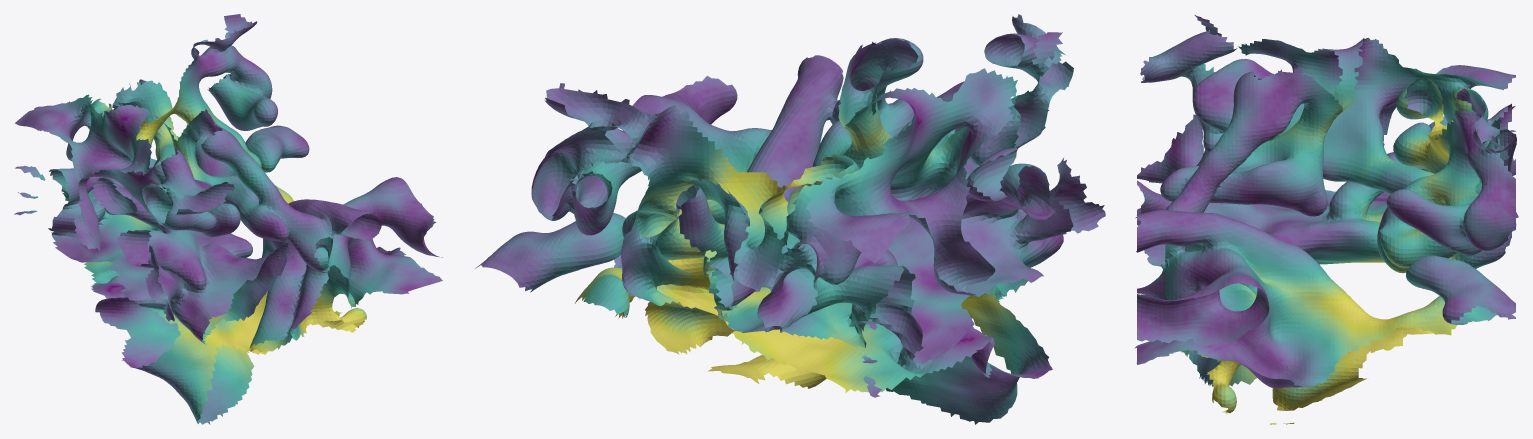
File: crop1038_gap.glb
The picture shows the model from 3 angles, left to right: view 1: azimuth 30°, elevation 25°; view 2: azimuth 150°, elevation 25°; view 3: azimuth 270°, elevation 25°; orthographic projection. The views are drawn at different scales.
Visible parts, largest first — view 1: world; view 2: world; view 3: world.
Part boxes in pixels (left/top/right/bottom): world: left=14, top=14, right=442, bottom=424; world: left=475, top=14, right=1105, bottom=424; world: left=1134, top=15, right=1518, bottom=424.
Bounding box in the file's own units: 1527 × 1460 × 1527.
